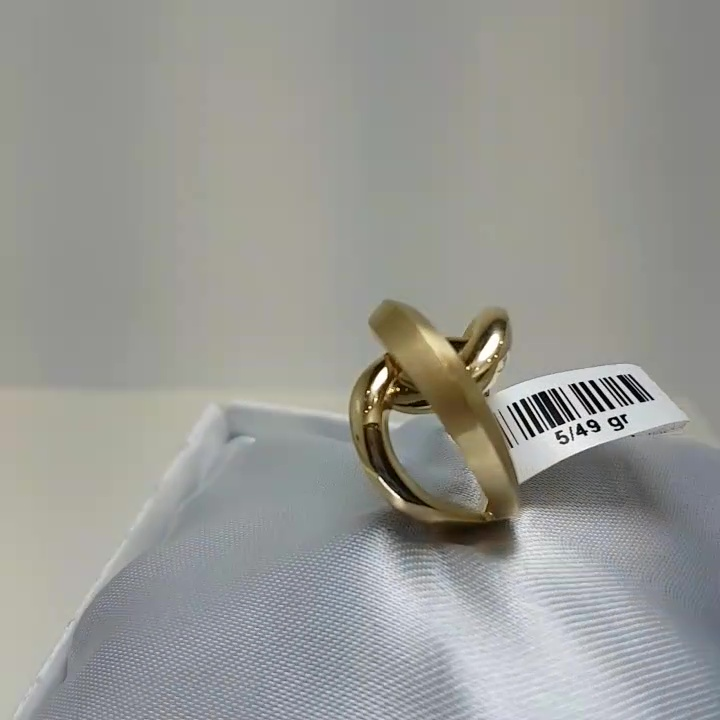Ring 3: (323, 269, 557, 549)
